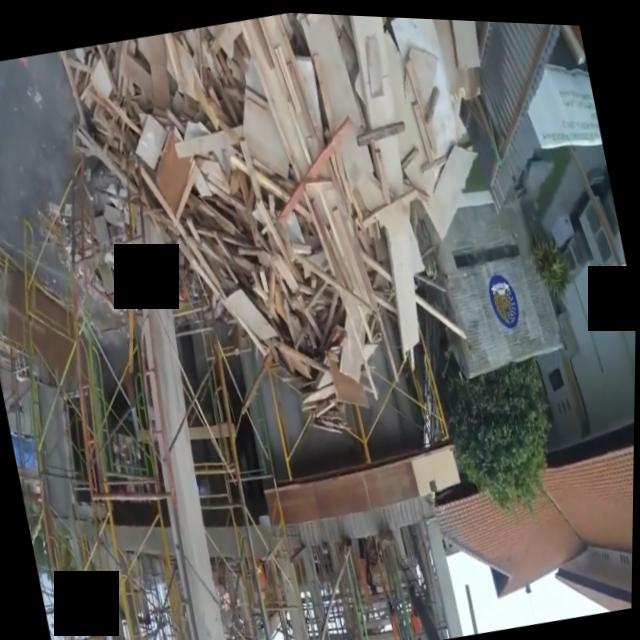Building: (126, 5, 507, 411), (5, 329, 466, 640), (497, 133, 639, 445), (460, 434, 635, 628)
Tree: (441, 344, 565, 516)
